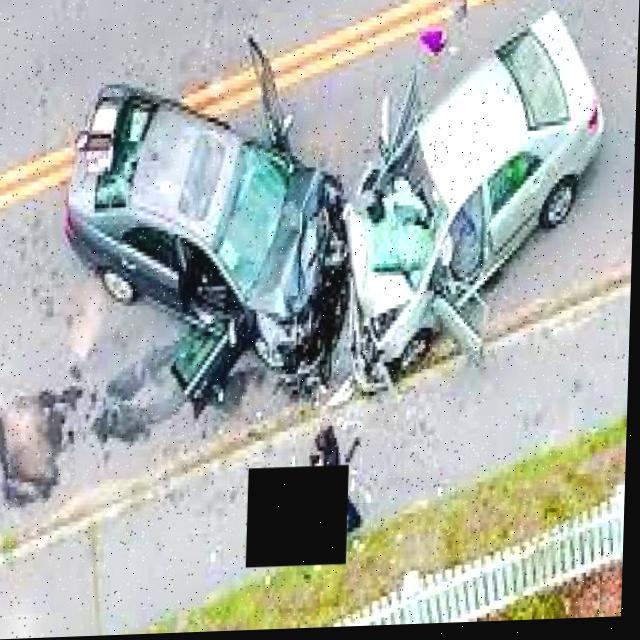multiple_accident: (42, 4, 620, 611)
